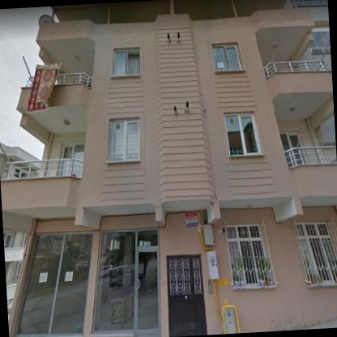door: (165, 256, 206, 336), (132, 249, 163, 334)
